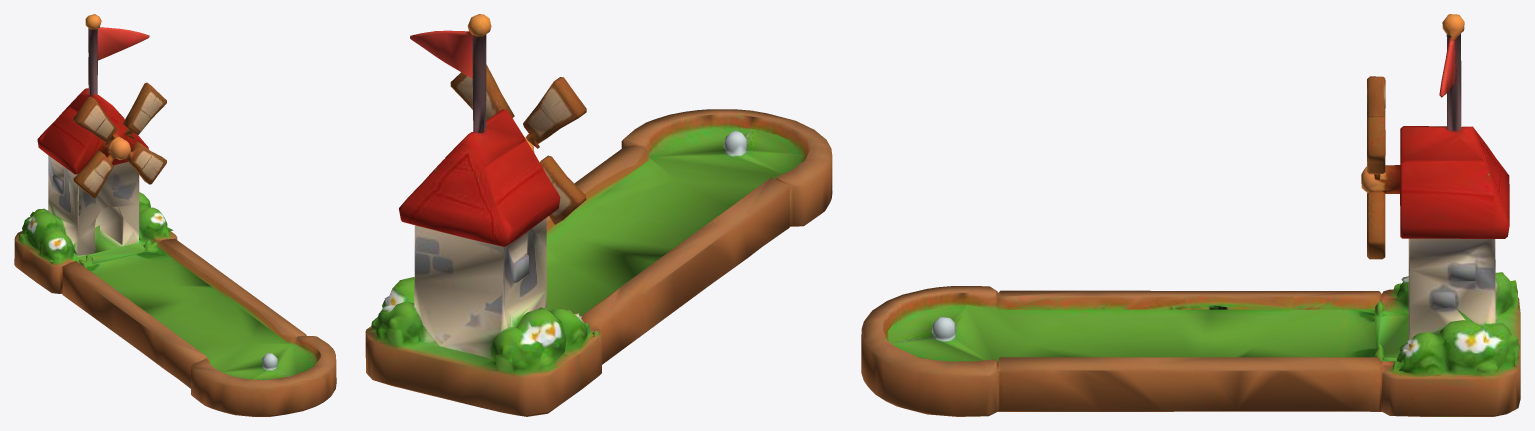
The model's file is minigolf.glb.
The picture shows the model from 3 angles, left to right: view 1: azimuth 30°, elevation 25°; view 2: azimuth 150°, elevation 25°; view 3: azimuth 270°, elevation 25°; orthographic projection. The views are drawn at different scales.
Parts seen in each view (by area): view 1: model; view 2: model; view 3: model.
Boxes of the visible parts, x1,y1,x2,y2 form: model: [14, 14, 336, 416]; model: [365, 14, 832, 416]; model: [861, 14, 1520, 416].
Bounding box in the file's own units: 0.6128 × 1.14 × 1.9.
Materials: 1 (1 with a texture image).
